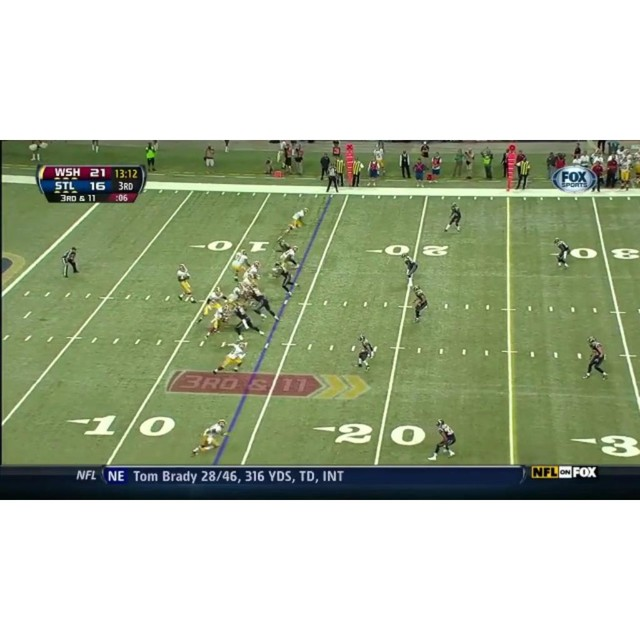american-football-player: (191, 419, 227, 457), (213, 339, 248, 375), (427, 418, 456, 460), (202, 304, 231, 342), (584, 335, 608, 380), (233, 304, 264, 338), (250, 286, 278, 322), (199, 287, 224, 323), (273, 262, 296, 296), (177, 263, 196, 302), (356, 334, 376, 371), (411, 285, 429, 322), (285, 208, 309, 233), (402, 254, 419, 288), (231, 250, 249, 282), (444, 202, 462, 233), (553, 238, 570, 270), (279, 244, 299, 270)
referee: (61, 247, 80, 278), (325, 165, 340, 192)
